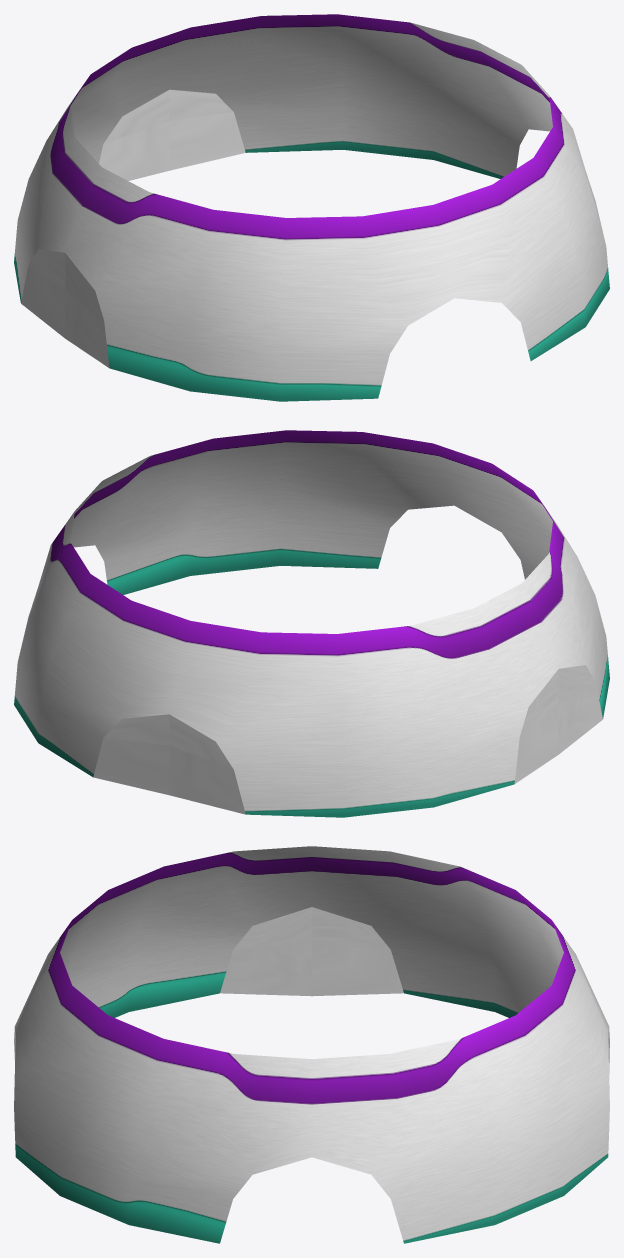
The model's file is Base2Opening.fbx.
The picture shows the model from 3 angles, top to bottom: view 1: azimuth 30°, elevation 25°; view 2: azimuth 150°, elevation 25°; view 3: azimuth 270°, elevation 25°; orthographic projection. The views are drawn at different scales.
Visible parts, largest first — view 1: pSphere17; view 2: pSphere17; view 3: pSphere17.
Part boxes in pixels (left/top/right/bottom): pSphere17: left=14, top=14, right=609, bottom=401; pSphere17: left=14, top=430, right=609, bottom=817; pSphere17: left=14, top=846, right=609, bottom=1243.
Size of the model in its own units: 12.65 by 3.97 by 12.72.
